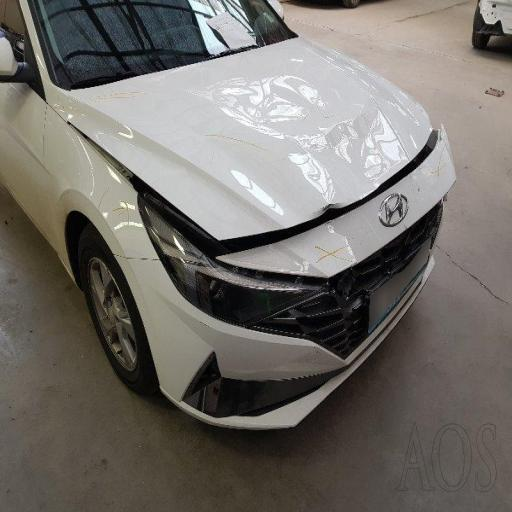broken: (96, 109, 374, 321)
